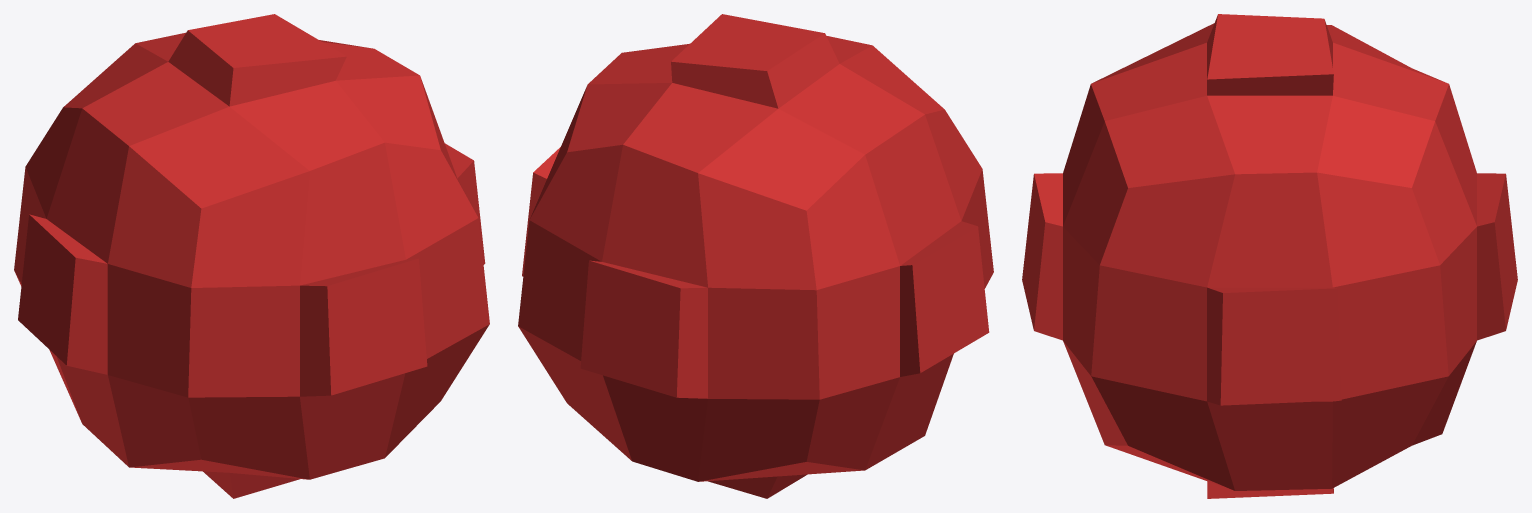
Rendered from stroyd_1.fbx.
The picture shows the model from 3 angles, left to right: view 1: azimuth 30°, elevation 25°; view 2: azimuth 150°, elevation 25°; view 3: azimuth 270°, elevation 25°; orthographic projection. The views are drawn at different scales.
Visible parts, largest first — view 1: highlight_particle; view 2: highlight_particle; view 3: highlight_particle.
Boxes of the visible parts, x1,y1,x2,y2 form: highlight_particle: [14, 14, 489, 498]; highlight_particle: [518, 14, 993, 498]; highlight_particle: [1022, 14, 1517, 498].
Bounding box in the file's own units: 103 × 101 × 103.
